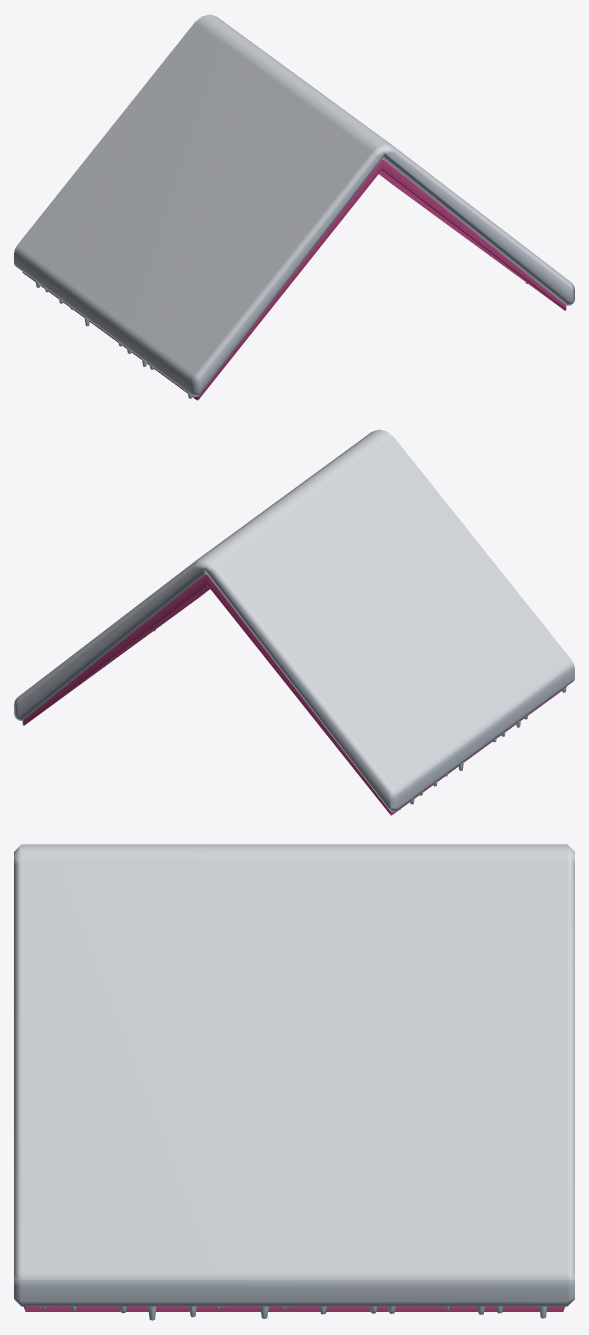
Rendered from CandyHouse_Gingerbread_Roof.glb.
The picture shows the model from 3 angles, top to bottom: view 1: azimuth 30°, elevation 25°; view 2: azimuth 150°, elevation 25°; view 3: azimuth 270°, elevation 25°; orthographic projection. The views are drawn at different scales.
Parts seen in each view (by area): view 1: CandyHouse_Gingerbread_Roof; view 2: CandyHouse_Gingerbread_Roof; view 3: CandyHouse_Gingerbread_Roof.
Boxes of the visible parts, left/top/right/bottom form: CandyHouse_Gingerbread_Roof: left=14, top=14, right=574, bottom=400; CandyHouse_Gingerbread_Roof: left=14, top=429, right=574, bottom=815; CandyHouse_Gingerbread_Roof: left=14, top=844, right=574, bottom=1320.
Bounding box in the file's own units: 26.2 × 14.02 × 21.5.
